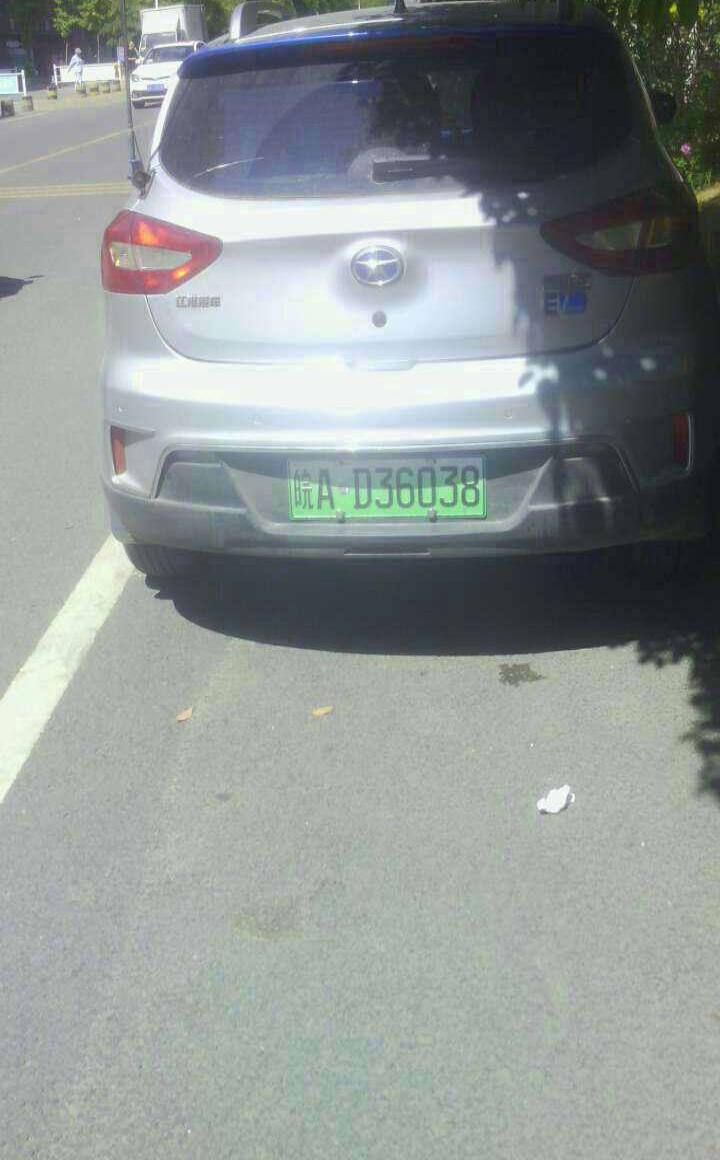car: (287, 461, 485, 523)
